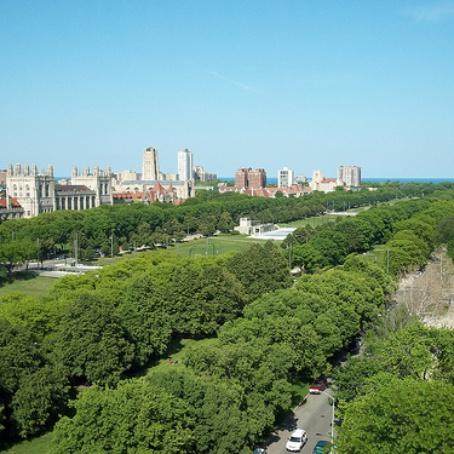building: (17, 170, 110, 208), (138, 149, 191, 199), (231, 167, 267, 196), (336, 163, 362, 188), (275, 164, 293, 190), (308, 165, 326, 190)
sky: (1, 1, 446, 170)
vegetation: (4, 192, 454, 449)
